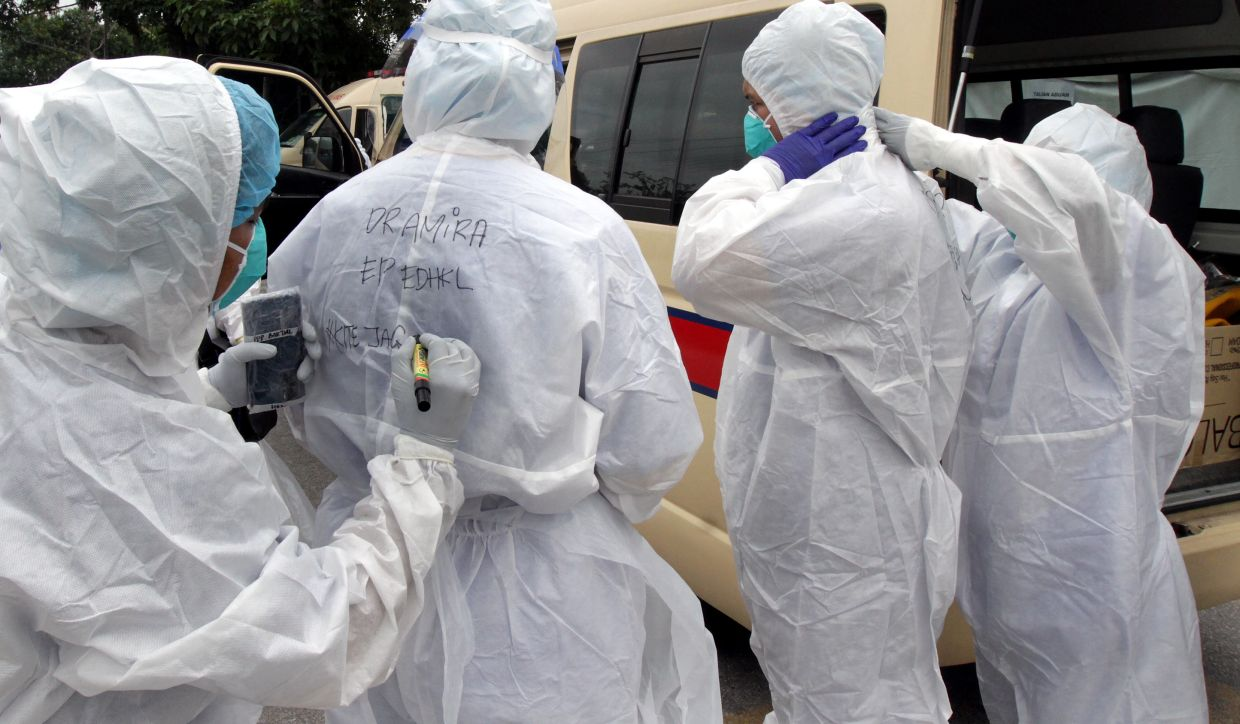Coverall: (231, 2, 708, 724), (1, 53, 408, 724), (668, 1, 979, 724), (924, 93, 1220, 724)
Gloves: (383, 324, 492, 456), (198, 315, 329, 420), (755, 106, 879, 194)
with_mask: (209, 183, 274, 332), (741, 74, 787, 170)
